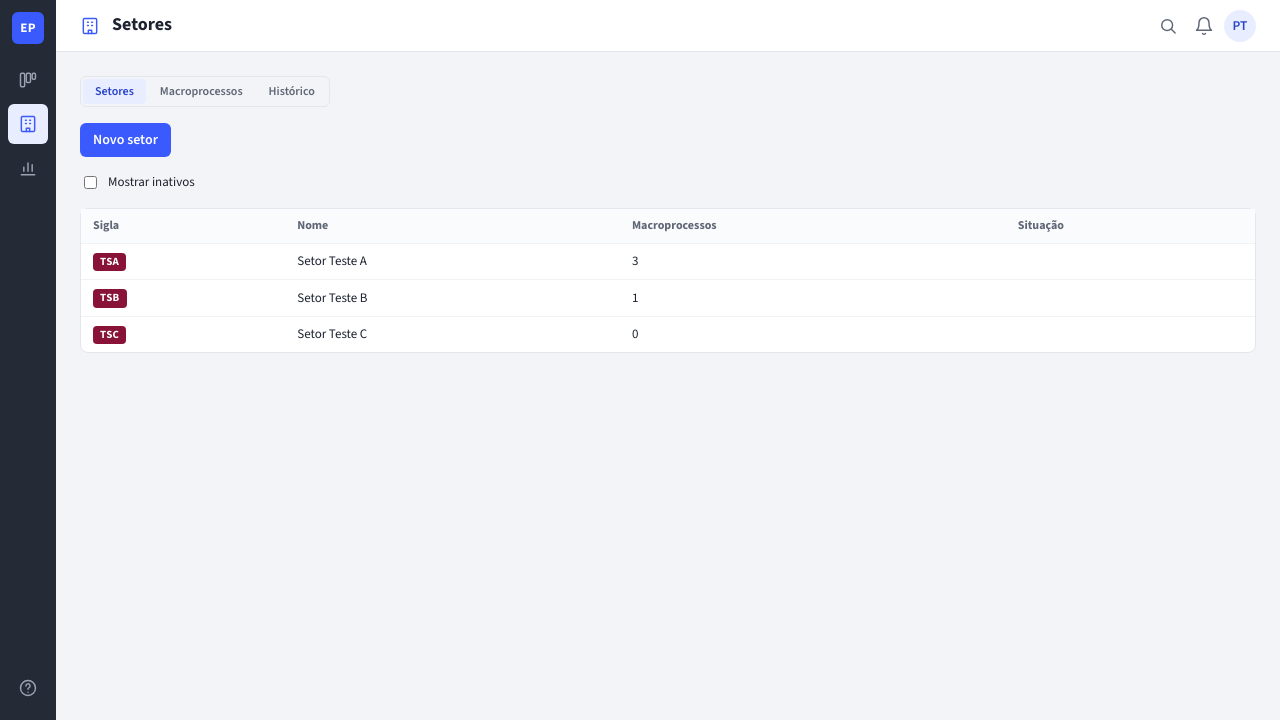
a janela de exclusão do setor diz de quantos macroprocessos ele sai
This screenshot has width=1280, height=720.
Click the cell "Setor Teste A": (453, 262) [285,244,620,280]
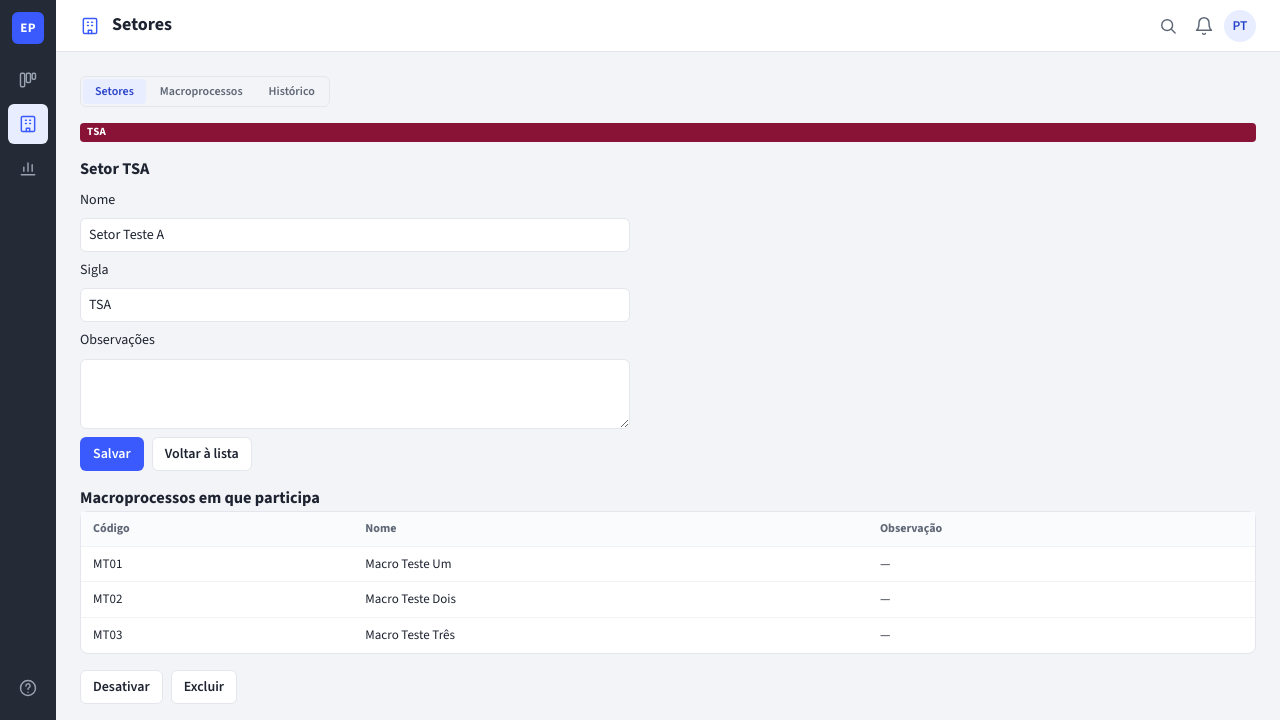
Click the button "Excluir": (204, 687) [171,670,237,704]
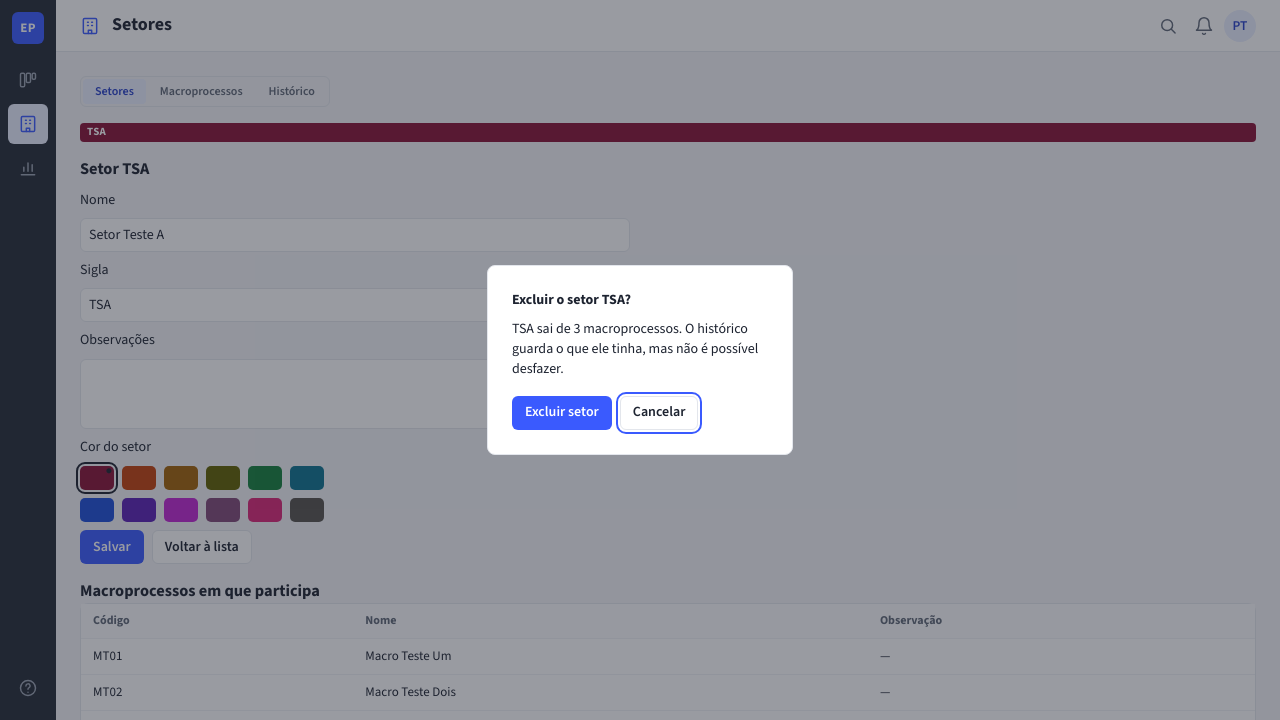
expect the dialog "Excluir o setor TSA?" is shown: met, box [487,265,793,455]
